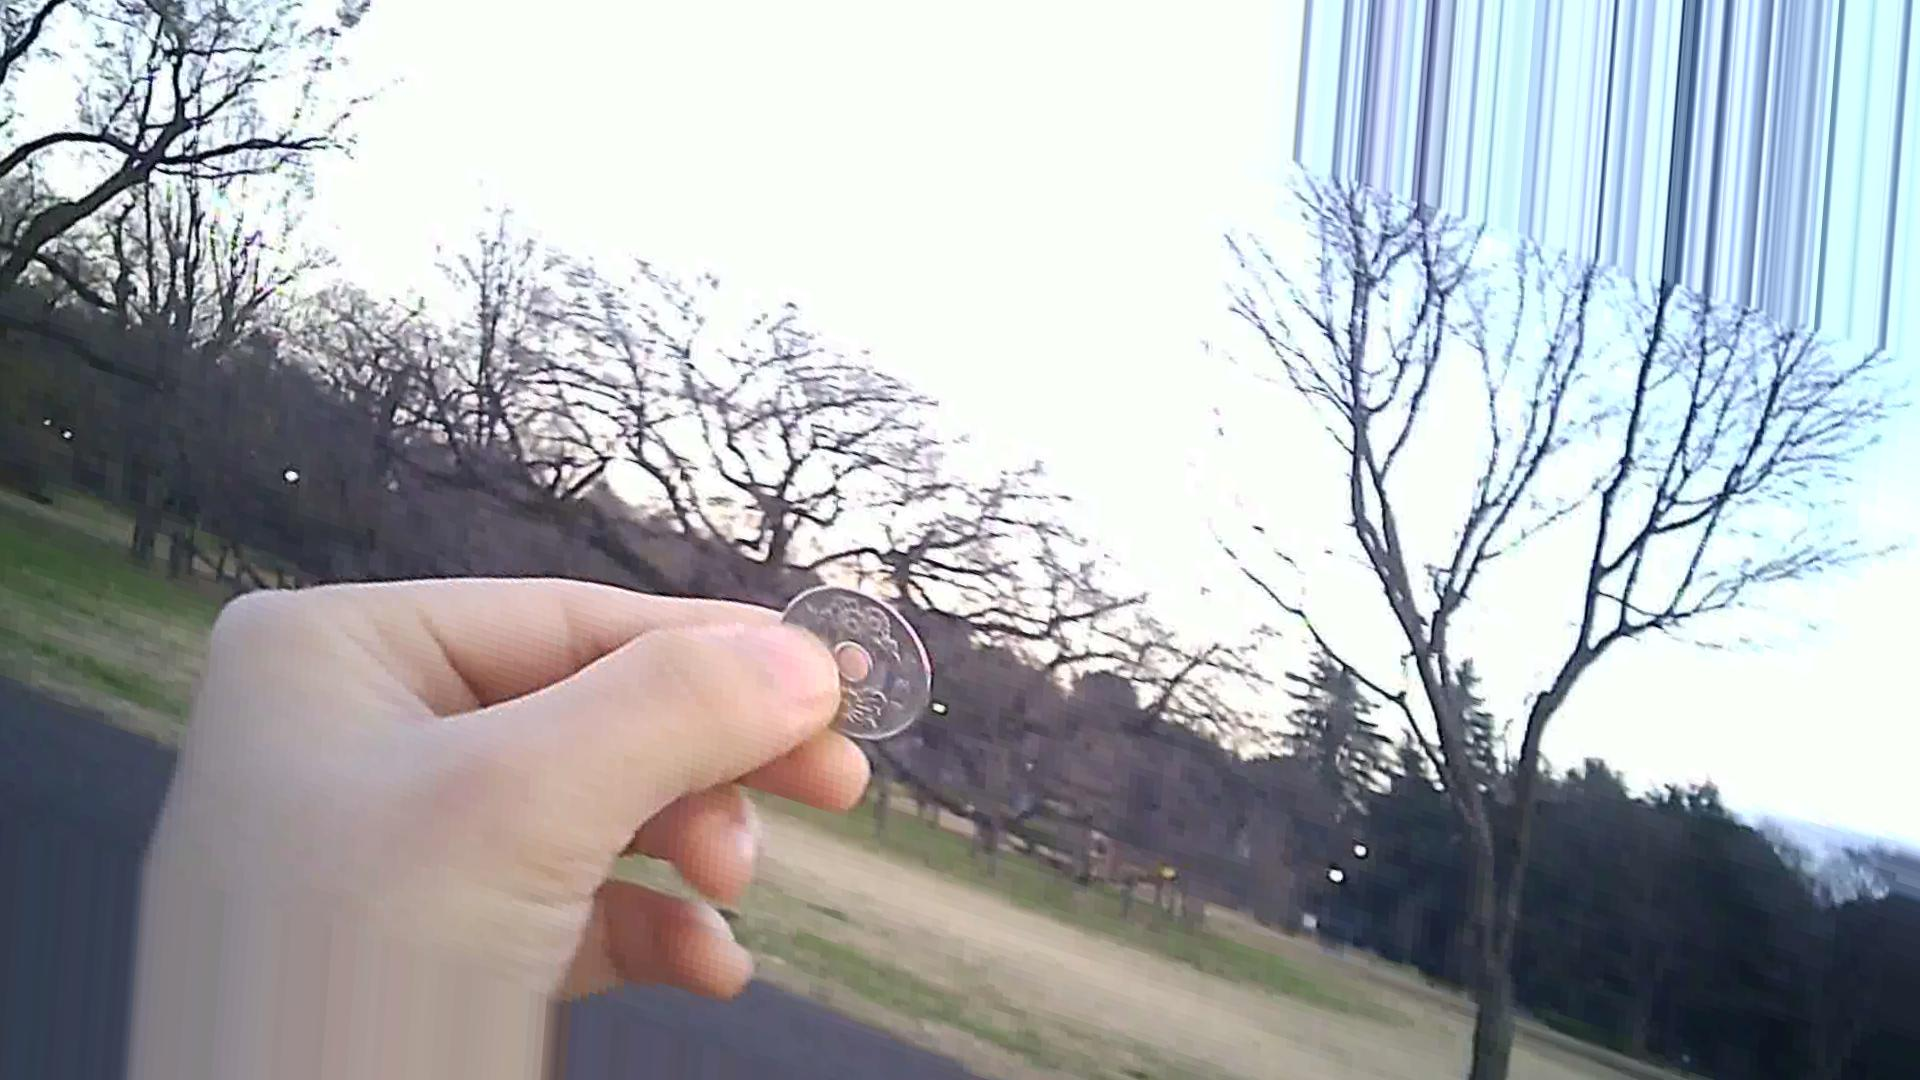50 Yen: (767, 571, 948, 762)
